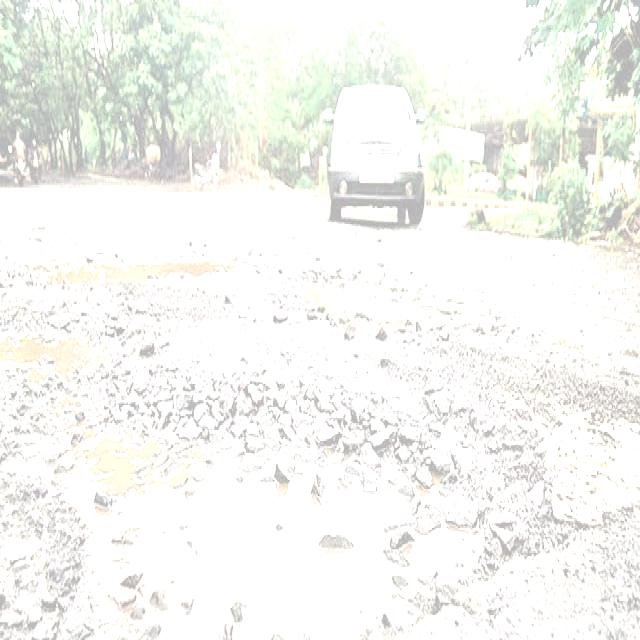Pothole: (5, 248, 640, 640)
